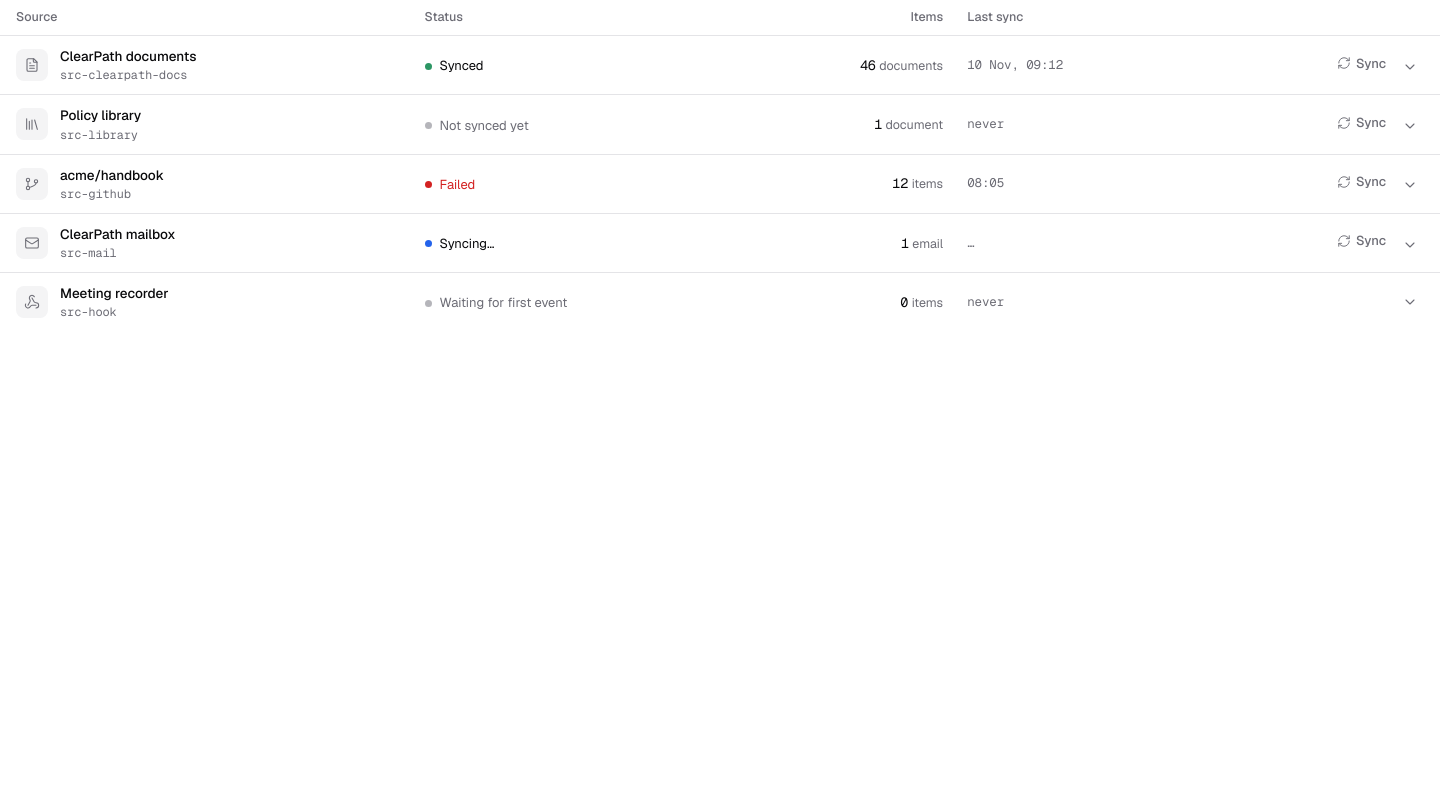
Test case: SourcesTable › expanding a source › opens on a click on the name and closes on a second one
expect the text "ClearPath documents" is shown: met, box [60,46,196,66]
expect the text "Recent items" is not shown: met
What coordinates should you click on to do the following:
click the button "ClearPath documents src-clearpath-docs"
I would click on:
 (106, 65)
Its box is [16,46,196,84].
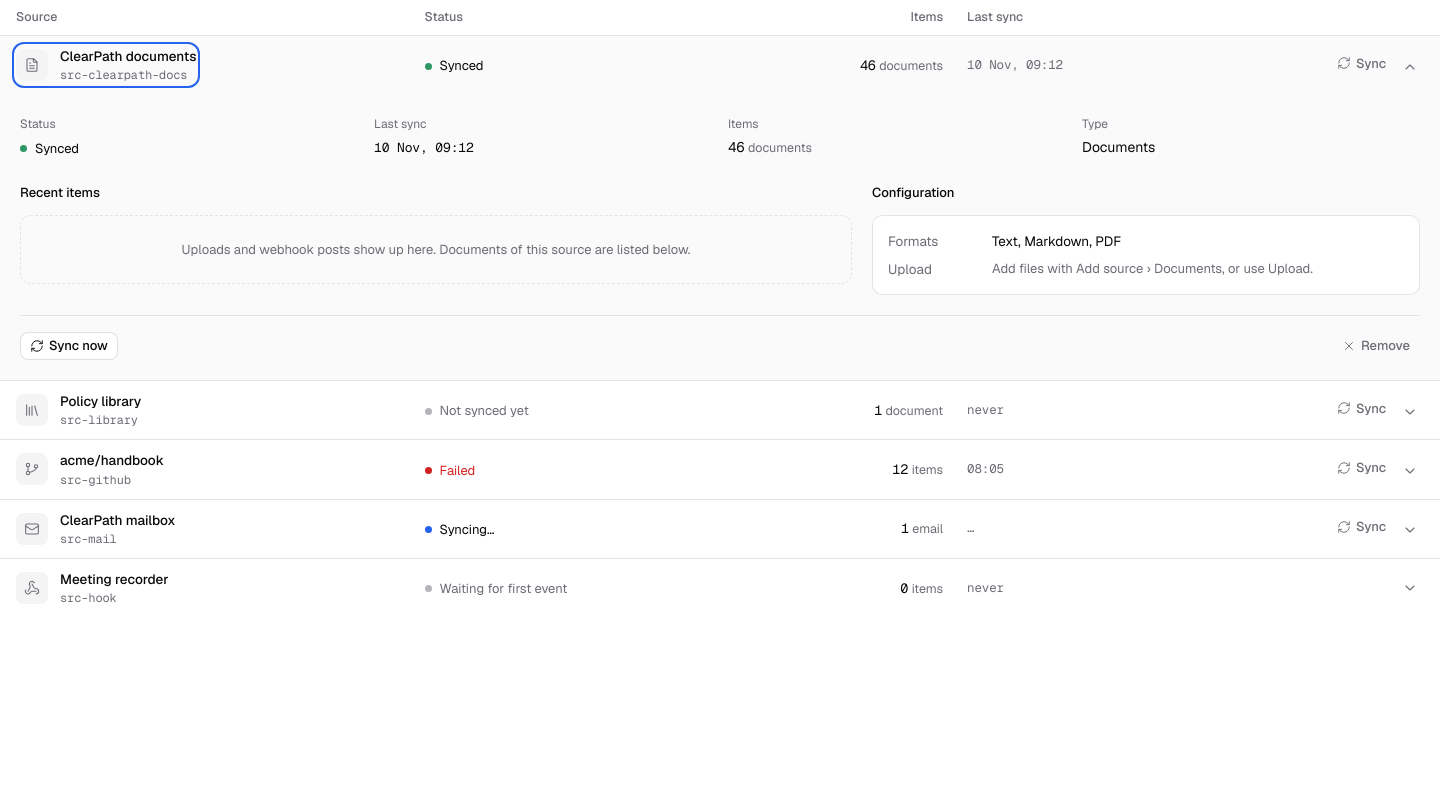
expect the heading "Recent items" is shown: met, box [20,183,100,202]
expect the heading "Configuration" is shown: met, box [872,183,954,202]
What coordinates should you click on to do the following:
click the button "ClearPath documents src-clearpath-docs"
I would click on:
 (106, 65)
Its box is [16,46,196,84].
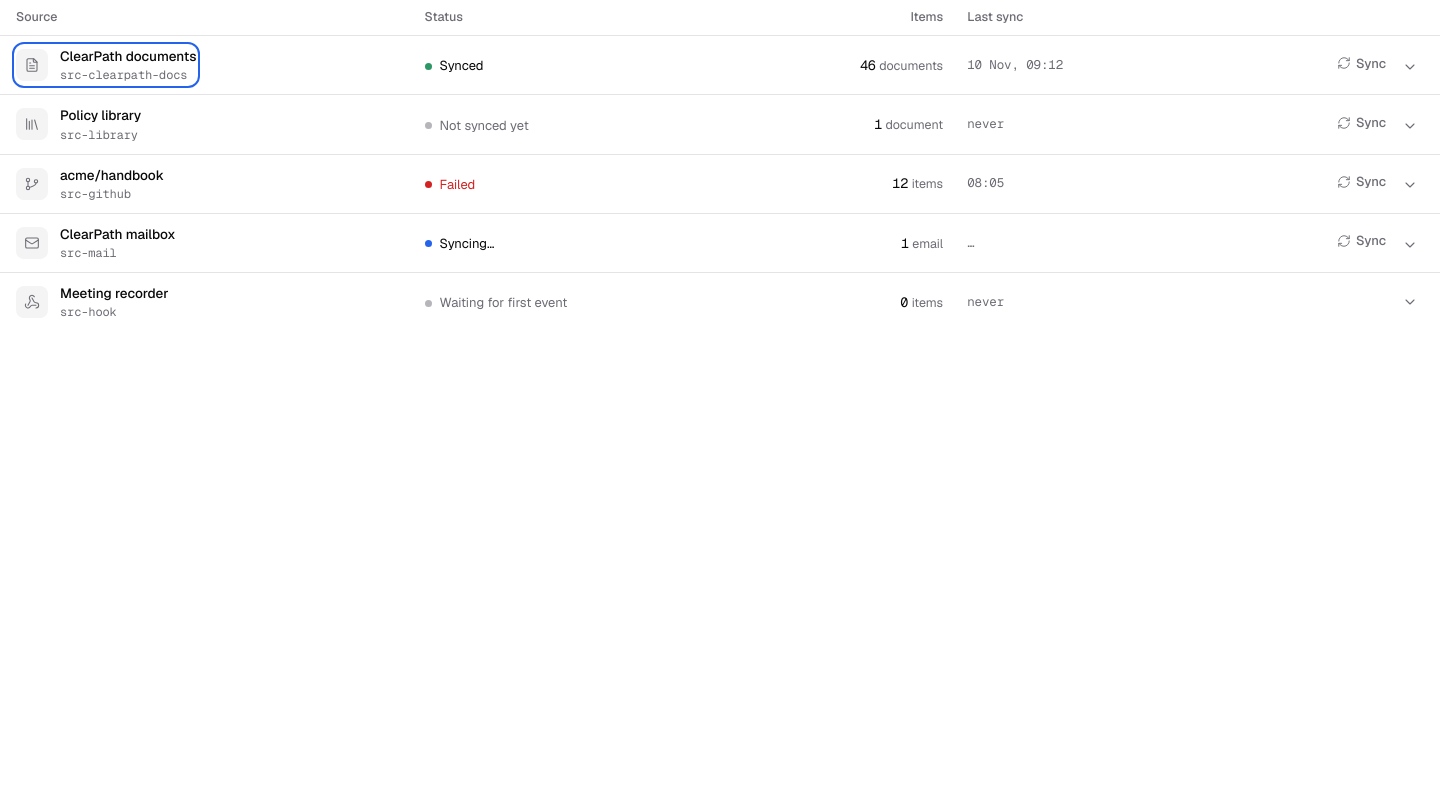
expect the heading "Recent items" is gone: met
